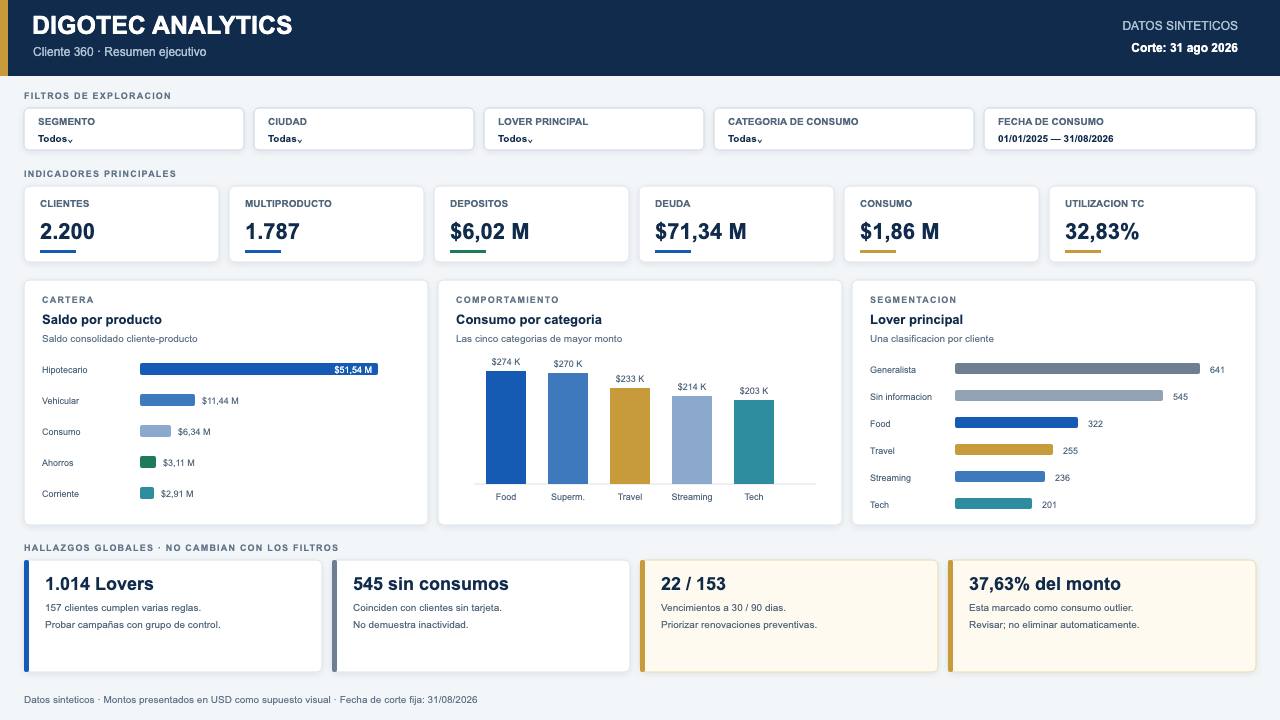

What the dashboard file says about the page in this screenshot:
{"tool":"powerbi","page":{"name":"Resumen Ejecutivo","canvas":[1920,1080],"ordinal":0},"visuals":[{"type":"shape","box":[0,0,1920.6,111.7],"z":0},{"type":"textbox","box":[8.2,0,484.7,67.2],"z":1000},{"type":"textbox","box":[49.3,55.8,403.4,56.3],"z":2000},{"type":"textbox","box":[1501.2,3.3,403.4,56.3],"z":3000},{"type":"textbox","box":[1527.5,55.8,351.8,67.2],"z":4000},{"type":"slicer","fields":{"Values":["DimClientes.segmento_cliente"]},"box":[31.2,123.2,389.3,95.3],"z":5000},{"type":"slicer","fields":{"Values":["DimClientes.ciudad"]},"box":[420.5,123.2,389.3,95.3],"z":6000},{"type":"slicer","fields":{"Values":["DimClientes.lover_principal"]},"box":[809.7,123.2,389.3,98.5],"z":7000},{"type":"slicer","fields":{"Values":["FactConsumos.categoria_consumo"]},"box":[1199,123.2,389.3,150],"z":8000},{"type":"slicer","fields":{"Values":["DimFecha.Fecha"]},"box":[1588.2,123.2,317,149.5],"z":9000},{"type":"cardVisual","fields":{"Data":["Medidas.Clientes unicos"]},"box":[65.7,218.4,208.6,151.1],"z":9001},{"type":"cardVisual","fields":{"Data":["Medidas.Clientes multiproducto"]},"box":[333.4,218.4,208.6,151.1],"z":9002},{"type":"cardVisual","fields":{"Data":["Medidas.Saldo depositos"]},"box":[604.4,218.4,246.4,151.1],"z":9003},{"type":"cardVisual","fields":{"Data":["Medidas.Saldo deuda"]},"box":[916.5,218.4,241.4,151.1],"z":9004},{"type":"cardVisual","fields":{"Data":["Medidas.Consumo total"]},"box":[1226.9,221.7,259.5,151.1],"z":9005},{"type":"cardVisual","fields":{"Data":["Medidas.Utilizacion ponderada TC"]},"box":[1591.5,221.7,272.6,151.1],"z":9006},{"type":"clusteredBarChart","title":"Saldo por producto","fields":{"Category":["FactProductos.producto"],"Y":["Medidas.Saldo consolidado"]},"box":[65.7,386,520.7,366.3],"z":9007},{"type":"clusteredColumnChart","title":"Consumo por categoria","fields":{"Category":["FactConsumos.categoria_consumo"],"Y":["Medidas.Consumo total"]},"box":[670.1,386,581.4,366.3],"z":9008},{"type":"clusteredBarChart","title":"Segmentacion proncipal","fields":{"Category":["DimClientes.lover_principal"],"Y":["Medidas.Clientes unicos"]},"box":[1313.9,386,565,366.3],"z":9009},{"type":"shape","box":[31.2,816.3,420.5,185.6],"z":9010},{"type":"shape","box":[496,816.3,420.5,185.6],"z":9011},{"type":"shape","box":[974,816.3,420.5,185.6],"z":9012},{"type":"shape","box":[1458.5,816.3,420.5,185.6],"z":9013},{"type":"textbox","box":[64.1,822.9,354.8,174.1],"z":9015},{"type":"textbox","box":[515.7,845.9,381,126.5],"z":9016},{"type":"textbox","box":[1018.3,829.4,331.8,161],"z":9017},{"type":"textbox","box":[1465,839.3,405.7,141.2],"z":9018},{"type":"textbox","box":[49.3,768.7,657,70.6],"z":9019},{"type":"textbox","box":[26.3,1028.2,824.5,52.6],"z":9020}]}

Visuals, with their boxes in screenshot pixels (x1, y1, x2, y2), scaled from the page's 1920x1080 canvas onto the 1280x720 screenshot:
shape: region(0, 0, 1279, 74)
textbox: region(5, 0, 329, 45)
textbox: region(33, 37, 302, 75)
textbox: region(1001, 2, 1270, 40)
textbox: region(1018, 37, 1253, 82)
slicer - DimClientes.segmento_cliente: region(21, 82, 280, 146)
slicer - DimClientes.ciudad: region(280, 82, 540, 146)
slicer - DimClientes.lover_principal: region(540, 82, 799, 148)
slicer - FactConsumos.categoria_consumo: region(799, 82, 1059, 182)
slicer - DimFecha.Fecha: region(1059, 82, 1270, 182)
cardVisual - Medidas.Clientes unicos: region(44, 146, 183, 246)
cardVisual - Medidas.Clientes multiproducto: region(222, 146, 361, 246)
cardVisual - Medidas.Saldo depositos: region(403, 146, 567, 246)
cardVisual - Medidas.Saldo deuda: region(611, 146, 772, 246)
cardVisual - Medidas.Consumo total: region(818, 148, 991, 249)
cardVisual - Medidas.Utilizacion ponderada TC: region(1061, 148, 1243, 249)
"Saldo por producto" clusteredBarChart: region(44, 257, 391, 502)
"Consumo por categoria" clusteredColumnChart: region(447, 257, 834, 502)
"Segmentacion proncipal" clusteredBarChart: region(876, 257, 1253, 502)
shape: region(21, 544, 301, 668)
shape: region(331, 544, 611, 668)
shape: region(649, 544, 930, 668)
shape: region(972, 544, 1253, 668)
textbox: region(43, 549, 279, 665)
textbox: region(344, 564, 598, 648)
textbox: region(679, 553, 900, 660)
textbox: region(977, 560, 1247, 654)
textbox: region(33, 512, 471, 560)
textbox: region(18, 685, 567, 719)
